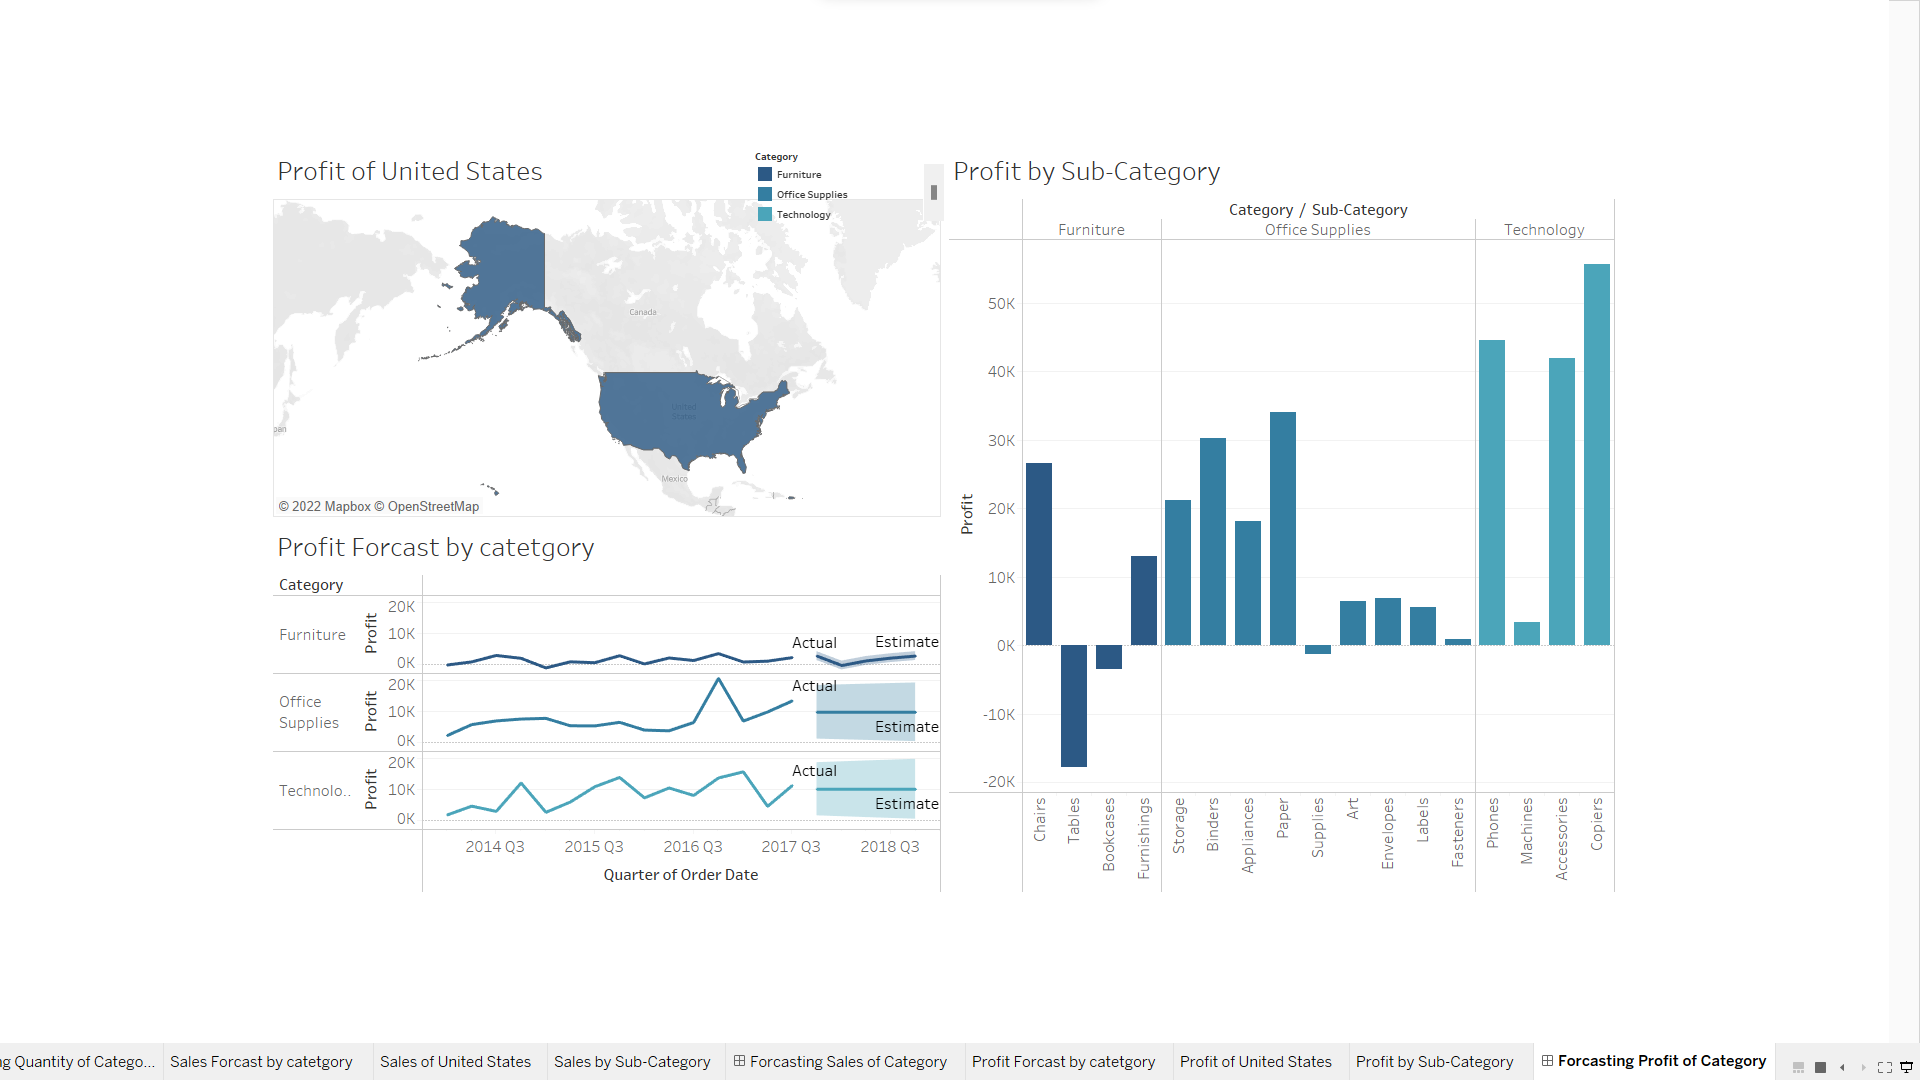

What the dashboard file says about the page in this screenshot:
{"tool":"tableau","page":{"name":"Forcasting Profit of Category","canvas":[1366,768],"ordinal":2},"visuals":[{"type":"worksheet","title":"Profit of United States","mark":"Automatic","box":[8,8,676.3,376]},{"type":"worksheet","title":"Profit by Sub-Category ","mark":"Automatic","rows":["Profit"],"cols":["Category","Sub-Category"],"box":[684.4,8,673.6,752]},{"type":"legend","title":"Profit Forcast by catetgory","param":"[federated.1t0746c1y66k571a7qr960tc11w9].[none:Category:nk]","box":[494,12,191,72]},{"type":"worksheet","title":"Profit Forcast by catetgory","mark":"Automatic","rows":["Category","Profit"],"cols":["Order Date"],"box":[8,384,676.3,376]}]}

Visuals, with their boxes on the page's 1366x768 design canvas (x1, y1, x2, y2). These are canvas units, not pixel positions in the 1920x1080 screenshot, which may show the page scaled, cropped or inside an application window:
"Profit of United States" worksheet: BBox(8, 8, 684, 384)
"Profit by Sub-Category " worksheet: BBox(684, 8, 1358, 760)
"Profit Forcast by catetgory" legend: BBox(494, 12, 685, 84)
"Profit Forcast by catetgory" worksheet: BBox(8, 384, 684, 760)
